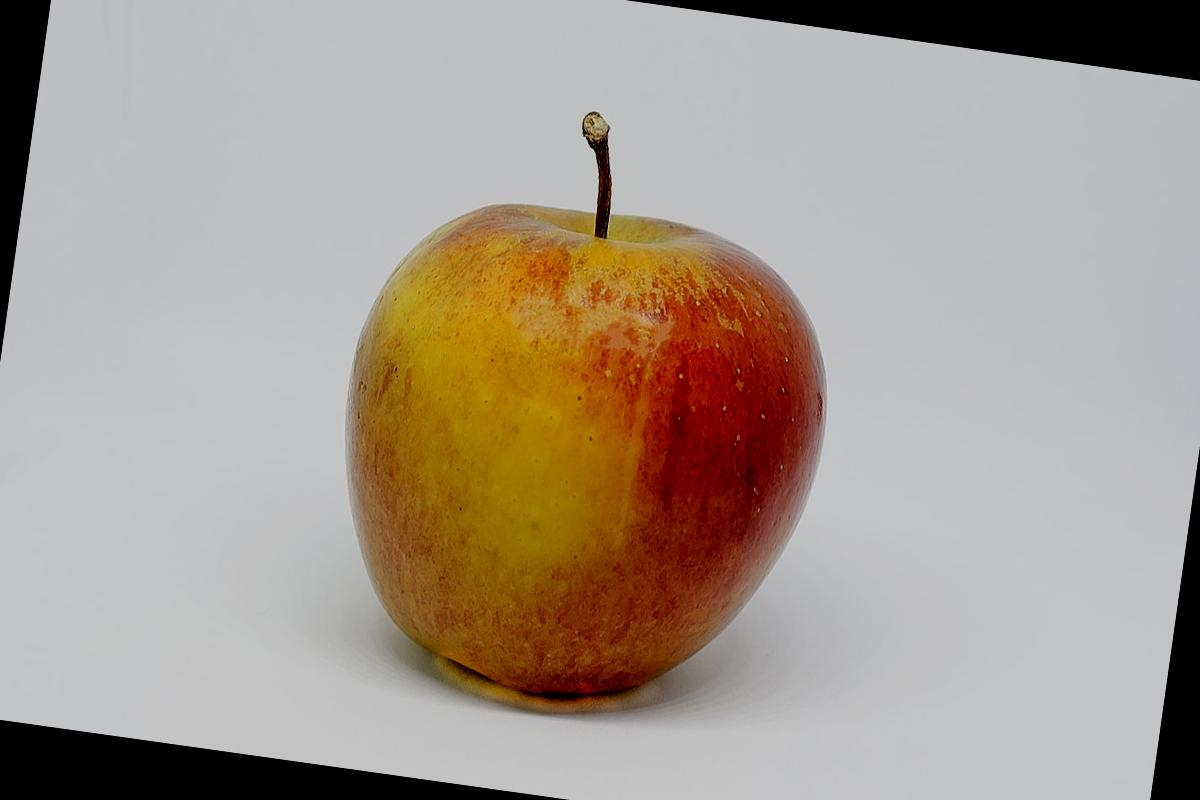Apple Ripe: (282, 83, 877, 764)
